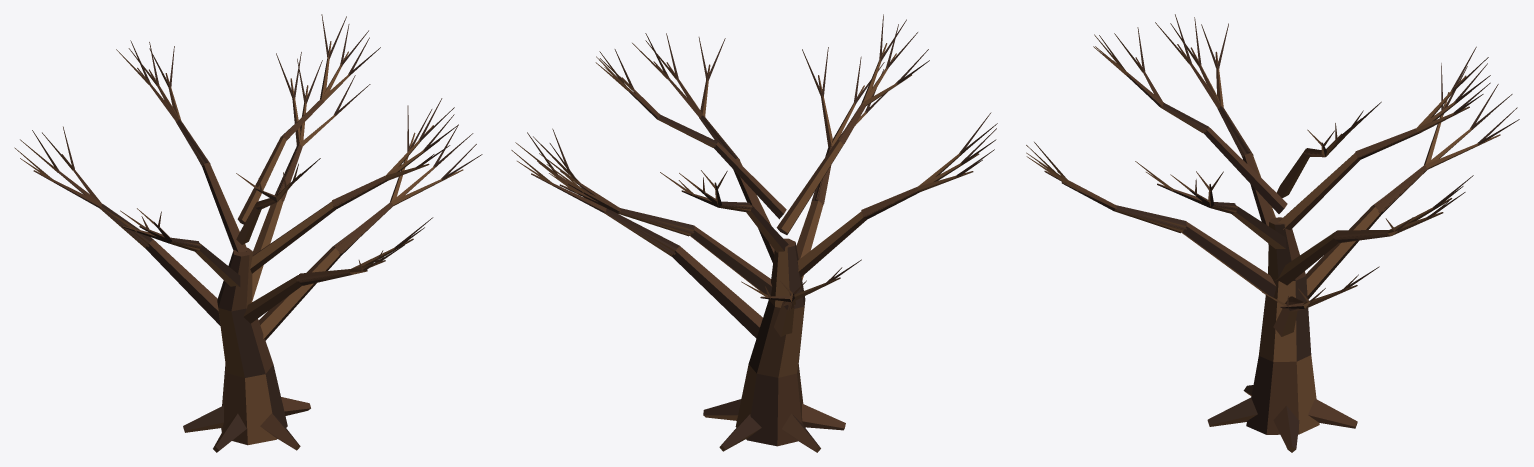
Rendered from tree_oak_bare.obj.
3 renders of one model, left to right at view 1: azimuth 30°, elevation 25°; view 2: azimuth 150°, elevation 25°; view 3: azimuth 270°, elevation 25°, orthographic. The views are drawn at different scales.
Visible parts, largest first — view 1: tree_oak_bare; view 2: tree_oak_bare; view 3: tree_oak_bare.
Boxes of the visible parts, x1,y1,x2,y2 form: tree_oak_bare: [14, 14, 482, 452]; tree_oak_bare: [511, 14, 997, 452]; tree_oak_bare: [1026, 14, 1519, 452].
Bounding box in the file's own units: 738 × 620 × 723.
1 material, 1 textured.
